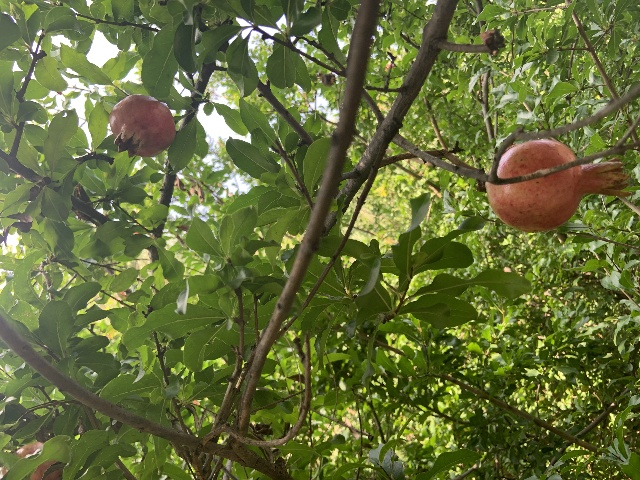ripe: (485, 138, 632, 232), (109, 93, 176, 157), (0, 441, 62, 480)
